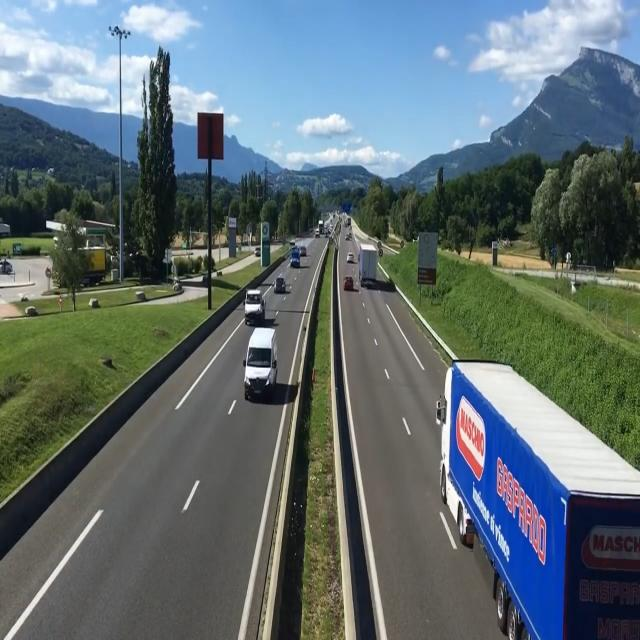car: (242, 326, 279, 403), (241, 275, 266, 326), (271, 269, 290, 300), (288, 244, 302, 272), (341, 273, 355, 295)
truck: (432, 334, 623, 640), (358, 242, 380, 288)
